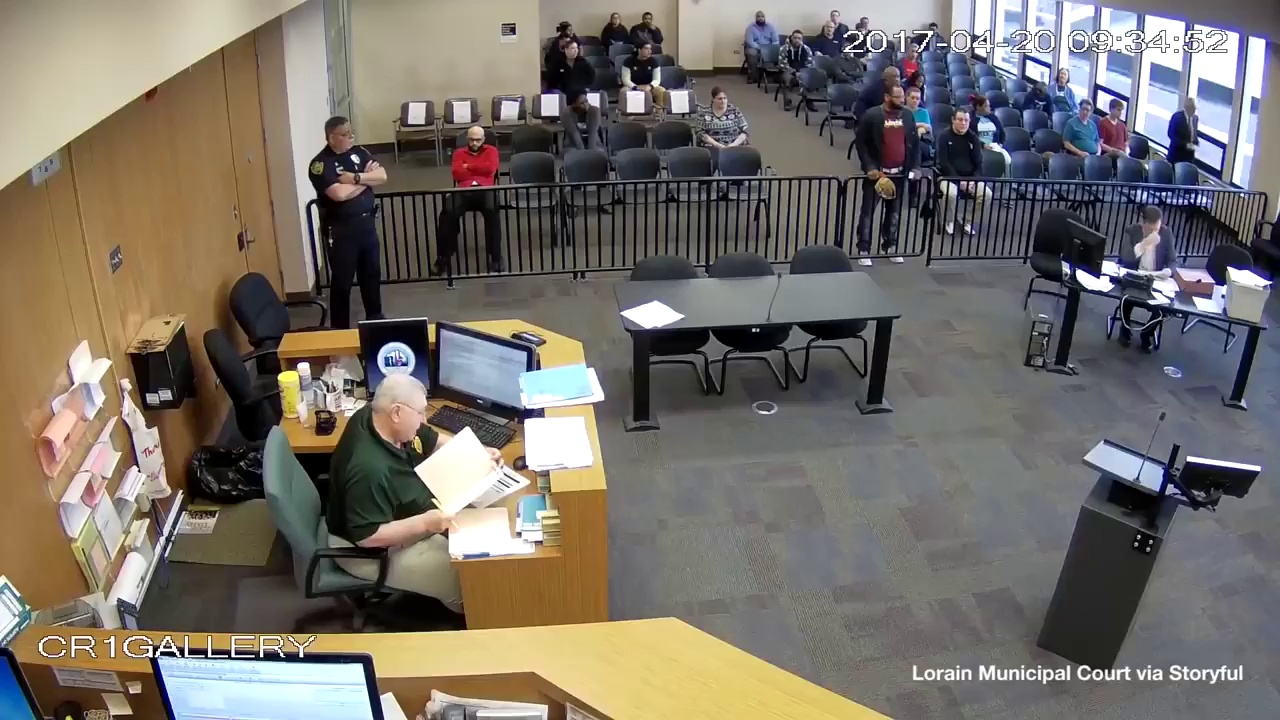normal: (313, 367, 502, 599), (845, 61, 1008, 275), (305, 108, 387, 328), (543, 4, 669, 104)
